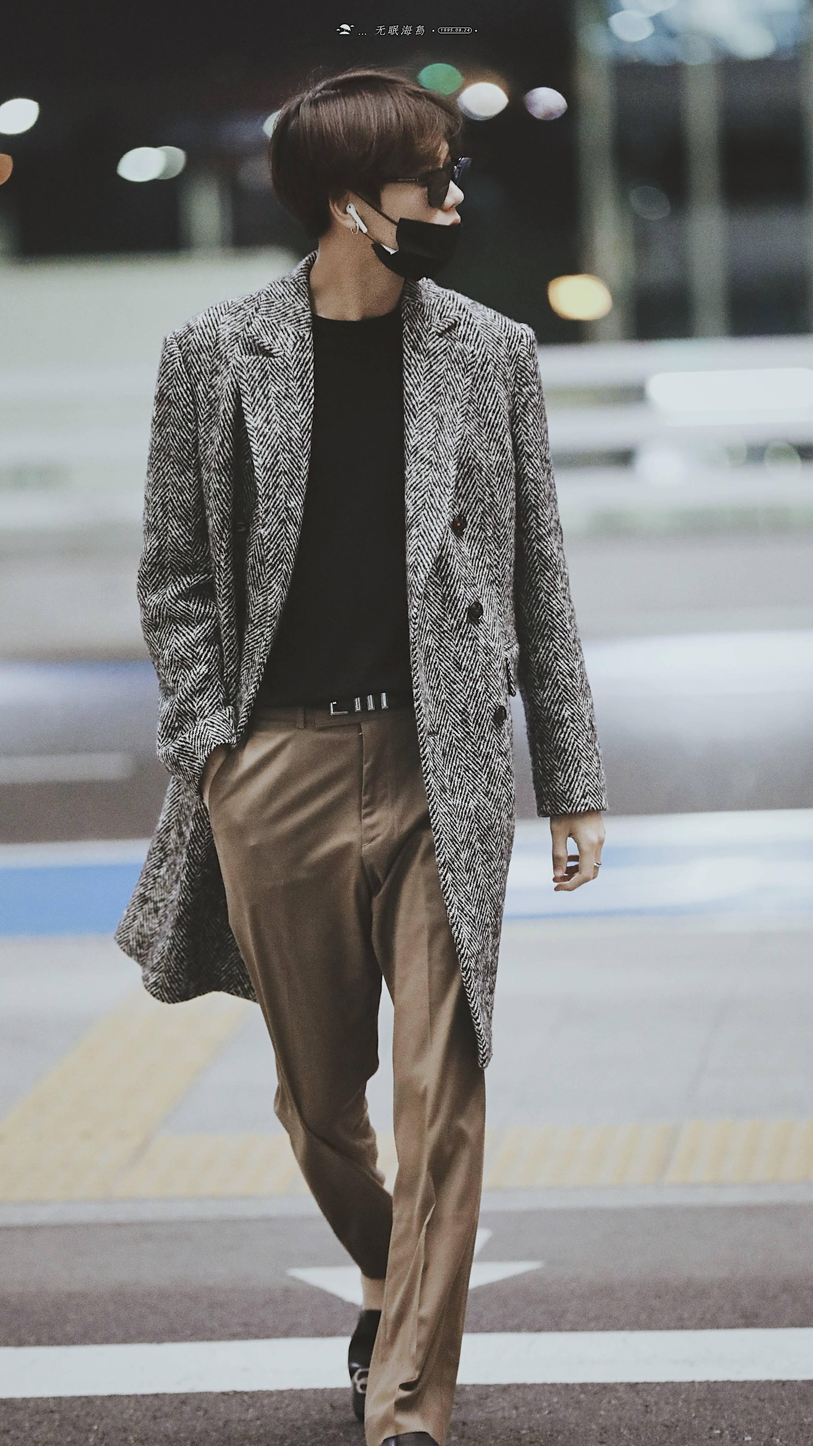WRONG: (371, 142, 465, 281)
